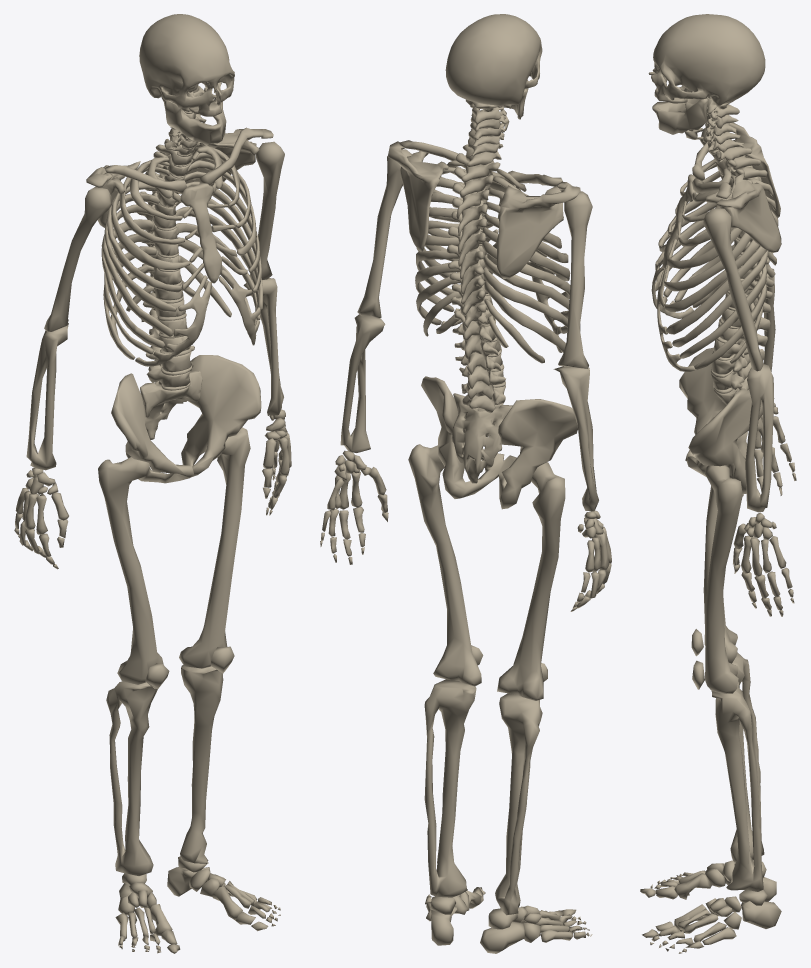
Rendered from icrp_adult_male.skeletal.LOD2.glb.
The picture shows the model from 3 angles, left to right: view 1: azimuth 30°, elevation 25°; view 2: azimuth 150°, elevation 25°; view 3: azimuth 270°, elevation 25°; orthographic projection.
Visible parts, largest first — view 1: ICRP.ADULT.MALE.SKELETAL.RIBS_CORTICAL, ICRP.ADULT.MALE.SKELETAL.FEMORA_CORTICAL, ICRP.ADULT.MALE.SKELETAL.TIBIAE_FIBULAE_AND_PATELLAE_CORTICA, ICRP.ADULT.MALE.SKELETAL.PELVIS_CORTICAL, ICRP.ADULT.MALE.SKELETAL.CRANIUM_CORTICAL, ICRP.ADULT.MALE.SKELETAL.ANKLES_AND_FOOT_CORTICAL, ICRP.ADULT.MALE.SKELETAL.WRISTS_AND_HAND_BONES_CORTICAL, ICRP.ADULT.MALE.SKELETAL.ULNAE_AND_RADII_CORTICAL, ICRP.ADULT.MALE.SKELETAL.HUMERI_CORTICAL, ICRP.ADULT.MALE.SKELETAL.CARTILAGE_COSTAL, ICRP.ADULT.MALE.SKELETAL.THORACIC_SPINE_CORTICAL, ICRP.ADULT.MALE.SKELETAL.LUMBAR_SPINE_CORTICAL (+7 smaller); view 2: ICRP.ADULT.MALE.SKELETAL.FEMORA_CORTICAL, ICRP.ADULT.MALE.SKELETAL.TIBIAE_FIBULAE_AND_PATELLAE_CORTICA, ICRP.ADULT.MALE.SKELETAL.RIBS_CORTICAL, ICRP.ADULT.MALE.SKELETAL.PELVIS_CORTICAL, ICRP.ADULT.MALE.SKELETAL.SCAPULAE_CORTICAL, ICRP.ADULT.MALE.SKELETAL.CRANIUM_CORTICAL, ICRP.ADULT.MALE.SKELETAL.THORACIC_SPINE_CORTICAL, ICRP.ADULT.MALE.SKELETAL.HUMERI_CORTICAL, ICRP.ADULT.MALE.SKELETAL.WRISTS_AND_HAND_BONES_CORTICAL, ICRP.ADULT.MALE.SKELETAL.ULNAE_AND_RADII_CORTICAL, ICRP.ADULT.MALE.SKELETAL.ANKLES_AND_FOOT_CORTICAL, ICRP.ADULT.MALE.SKELETAL.LUMBAR_SPINE_CORTICAL (+4 smaller); view 3: ICRP.ADULT.MALE.SKELETAL.RIBS_CORTICAL, ICRP.ADULT.MALE.SKELETAL.CRANIUM_CORTICAL, ICRP.ADULT.MALE.SKELETAL.TIBIAE_FIBULAE_AND_PATELLAE_CORTICA, ICRP.ADULT.MALE.SKELETAL.FEMORA_CORTICAL, ICRP.ADULT.MALE.SKELETAL.ANKLES_AND_FOOT_CORTICAL, ICRP.ADULT.MALE.SKELETAL.PELVIS_CORTICAL, ICRP.ADULT.MALE.SKELETAL.WRISTS_AND_HAND_BONES_CORTICAL, ICRP.ADULT.MALE.SKELETAL.SCAPULAE_CORTICAL, ICRP.ADULT.MALE.SKELETAL.ULNAE_AND_RADII_CORTICAL, ICRP.ADULT.MALE.SKELETAL.HUMERI_CORTICAL, ICRP.ADULT.MALE.SKELETAL.LUMBAR_SPINE_CORTICAL, ICRP.ADULT.MALE.SKELETAL.CERVICAL_SPINE_CORTICAL (+6 smaller).
Part boxes in pixels (x1=…): ICRP.ADULT.MALE.SKELETAL.RIBS_CORTICAL: x1=101, y1=145, x2=262, y2=359; ICRP.ADULT.MALE.SKELETAL.FEMORA_CORTICAL: x1=98, y1=427, x2=250, y2=684; ICRP.ADULT.MALE.SKELETAL.TIBIAE_FIBULAE_AND_PATELLAE_CORTICA: x1=106, y1=646, x2=234, y2=875; ICRP.ADULT.MALE.SKELETAL.PELVIS_CORTICAL: x1=111, y1=355, x2=261, y2=483; ICRP.ADULT.MALE.SKELETAL.CRANIUM_CORTICAL: x1=139, y1=14, x2=234, y2=116; ICRP.ADULT.MALE.SKELETAL.ANKLES_AND_FOOT_CORTICAL: x1=115, y1=856, x2=280, y2=953; ICRP.ADULT.MALE.SKELETAL.WRISTS_AND_HAND_BONES_CORTICAL: x1=14, y1=409, x2=291, y2=569; ICRP.ADULT.MALE.SKELETAL.ULNAE_AND_RADII_CORTICAL: x1=26, y1=278, x2=283, y2=470; ICRP.ADULT.MALE.SKELETAL.HUMERI_CORTICAL: x1=44, y1=141, x2=284, y2=331; ICRP.ADULT.MALE.SKELETAL.CARTILAGE_COSTAL: x1=135, y1=182, x2=260, y2=366; ICRP.ADULT.MALE.SKELETAL.THORACIC_SPINE_CORTICAL: x1=137, y1=139, x2=192, y2=300; ICRP.ADULT.MALE.SKELETAL.LUMBAR_SPINE_CORTICAL: x1=141, y1=292, x2=194, y2=387; ICRP.ADULT.MALE.SKELETAL.FEMORA_CORTICAL: x1=408, y1=444, x2=565, y2=700; ICRP.ADULT.MALE.SKELETAL.TIBIAE_FIBULAE_AND_PATELLAE_CORTICA: x1=424, y1=645, x2=547, y2=915; ICRP.ADULT.MALE.SKELETAL.RIBS_CORTICAL: x1=415, y1=160, x2=570, y2=363; ICRP.ADULT.MALE.SKELETAL.PELVIS_CORTICAL: x1=421, y1=376, x2=577, y2=509; ICRP.ADULT.MALE.SKELETAL.SCAPULAE_CORTICAL: x1=387, y1=141, x2=580, y2=278; ICRP.ADULT.MALE.SKELETAL.CRANIUM_CORTICAL: x1=445, y1=14, x2=542, y2=106; ICRP.ADULT.MALE.SKELETAL.THORACIC_SPINE_CORTICAL: x1=447, y1=153, x2=500, y2=340; ICRP.ADULT.MALE.SKELETAL.HUMERI_CORTICAL: x1=357, y1=149, x2=592, y2=368; ICRP.ADULT.MALE.SKELETAL.WRISTS_AND_HAND_BONES_CORTICAL: x1=320, y1=450, x2=611, y2=611; ICRP.ADULT.MALE.SKELETAL.ULNAE_AND_RADII_CORTICAL: x1=340, y1=314, x2=598, y2=511; ICRP.ADULT.MALE.SKELETAL.ANKLES_AND_FOOT_CORTICAL: x1=425, y1=887, x2=592, y2=953; ICRP.ADULT.MALE.SKELETAL.LUMBAR_SPINE_CORTICAL: x1=452, y1=323, x2=505, y2=413; ICRP.ADULT.MALE.SKELETAL.RIBS_CORTICAL: x1=656, y1=159, x2=768, y2=369; ICRP.ADULT.MALE.SKELETAL.CRANIUM_CORTICAL: x1=648, y1=14, x2=765, y2=106; ICRP.ADULT.MALE.SKELETAL.TIBIAE_FIBULAE_AND_PATELLAE_CORTICA: x1=691, y1=629, x2=764, y2=891; ICRP.ADULT.MALE.SKELETAL.FEMORA_CORTICAL: x1=703, y1=465, x2=742, y2=693; ICRP.ADULT.MALE.SKELETAL.ANKLES_AND_FOOT_CORTICAL: x1=640, y1=860, x2=781, y2=953; ICRP.ADULT.MALE.SKELETAL.PELVIS_CORTICAL: x1=679, y1=347, x2=762, y2=494; ICRP.ADULT.MALE.SKELETAL.WRISTS_AND_HAND_BONES_CORTICAL: x1=733, y1=401, x2=796, y2=616; ICRP.ADULT.MALE.SKELETAL.SCAPULAE_CORTICAL: x1=703, y1=122, x2=781, y2=253; ICRP.ADULT.MALE.SKELETAL.ULNAE_AND_RADII_CORTICAL: x1=745, y1=268, x2=775, y2=512; ICRP.ADULT.MALE.SKELETAL.HUMERI_CORTICAL: x1=700, y1=128, x2=763, y2=371; ICRP.ADULT.MALE.SKELETAL.LUMBAR_SPINE_CORTICAL: x1=711, y1=309, x2=770, y2=390; ICRP.ADULT.MALE.SKELETAL.CERVICAL_SPINE_CORTICAL: x1=705, y1=96, x2=752, y2=162.
Size of the model in its own units: 0.5413 by 1.74 by 0.2747.
